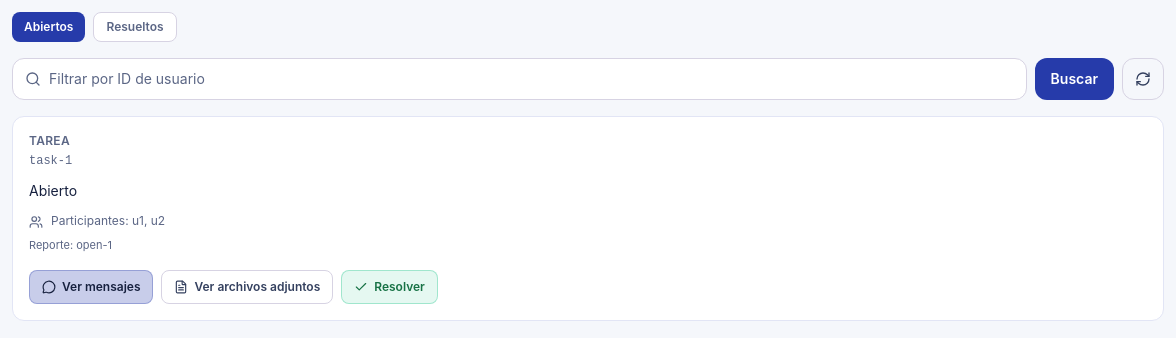
TaskReportsTab › filtra reportes abiertos y resueltos en el panel administrador
Expected: the text "Abierto" is shown, [29,182,77,199]
Step 1. Click the button "Resueltos" → coordinates (135, 27), box [94,12,177,42]
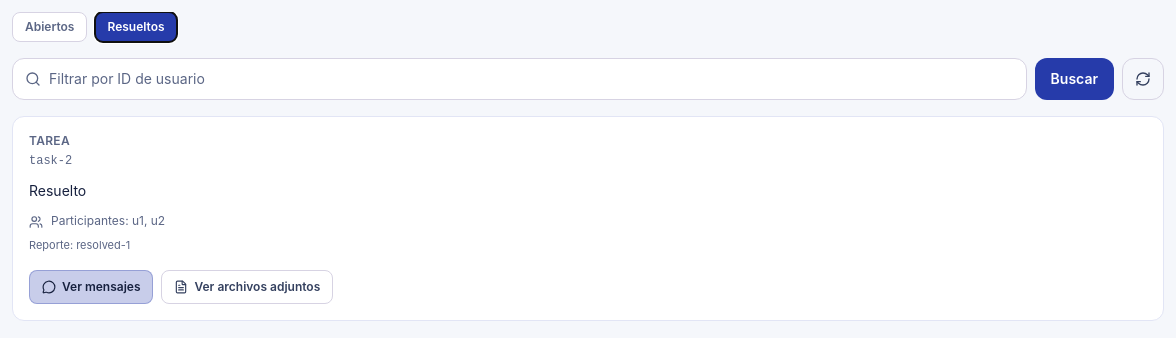
Expected: the text "Resuelto" is shown, [29,182,86,199]
